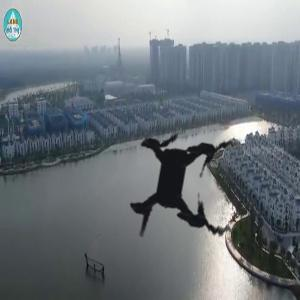drone: (75, 74, 291, 290)
